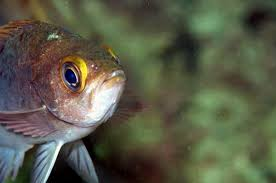mebaru: (35, 27, 142, 135)
